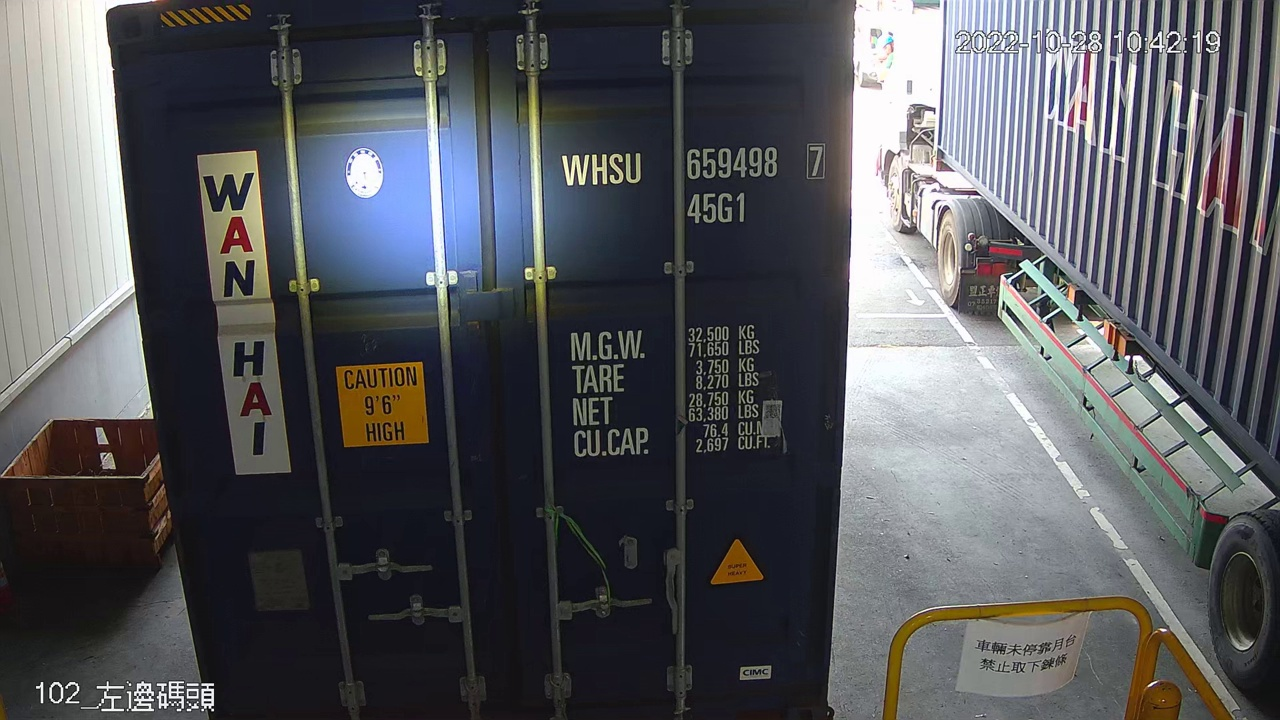container: (555, 136, 834, 233)
